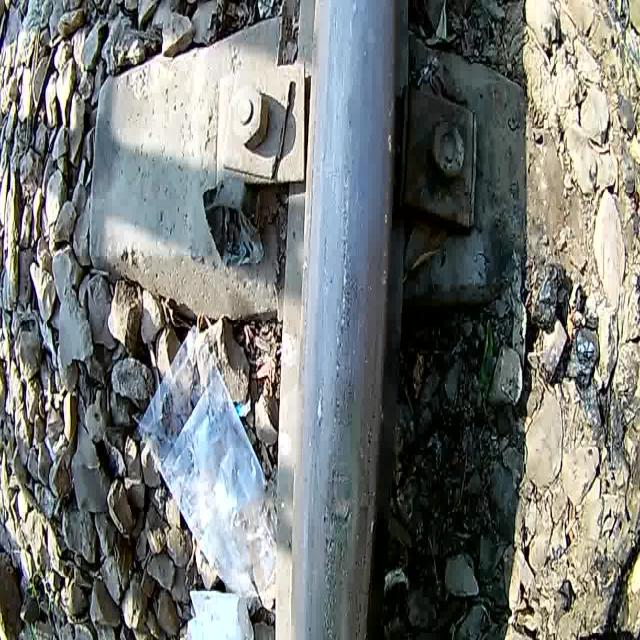Squats: (276, 437, 398, 608), (279, 351, 402, 436), (283, 263, 402, 348)
